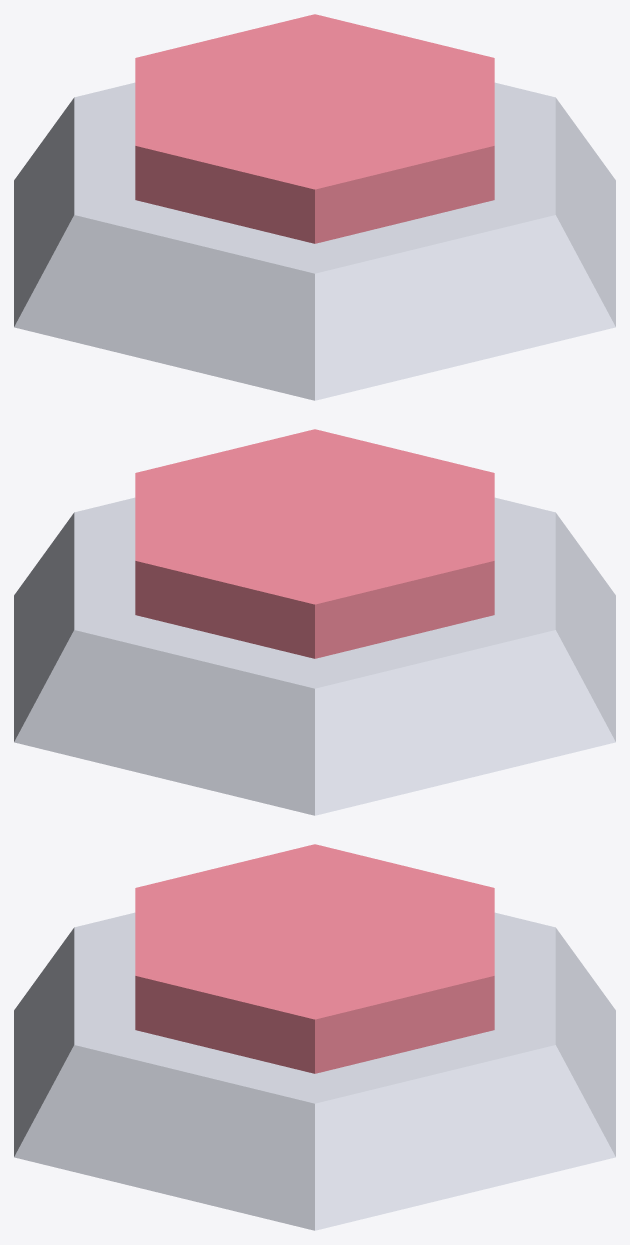
The model's file is button.glb.
3 renders of one model, top to bottom at view 1: azimuth 30°, elevation 25°; view 2: azimuth 150°, elevation 25°; view 3: azimuth 270°, elevation 25°, orthographic.
Parts seen in each view (by area): view 1: button(Clone), knob; view 2: button(Clone), knob; view 3: button(Clone), knob.
Part boxes in pixels (<box>): button(Clone): <box>14,82,615,400</box>; knob: <box>135,14,494,243</box>; button(Clone): <box>14,497,615,815</box>; knob: <box>135,429,494,658</box>; button(Clone): <box>14,912,615,1230</box>; knob: <box>135,844,494,1073</box>.
Size of the model in its own units: 0.58 by 0.14 by 0.5023.
